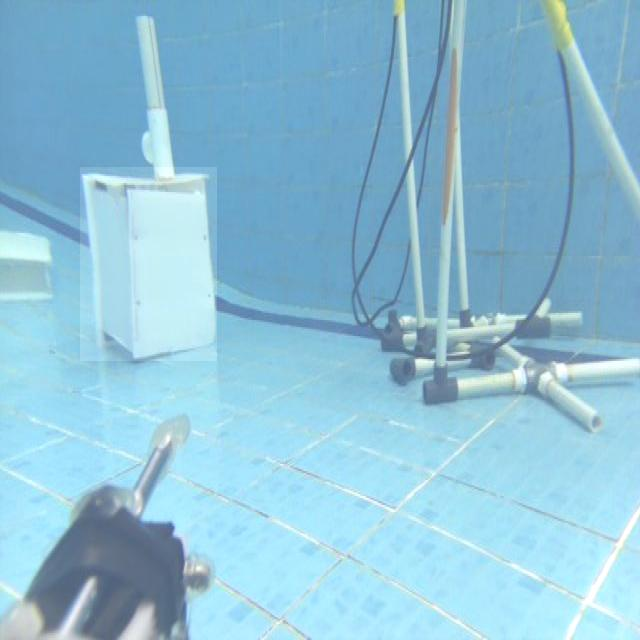Cube: (80, 167, 217, 361), (0, 228, 53, 302)
